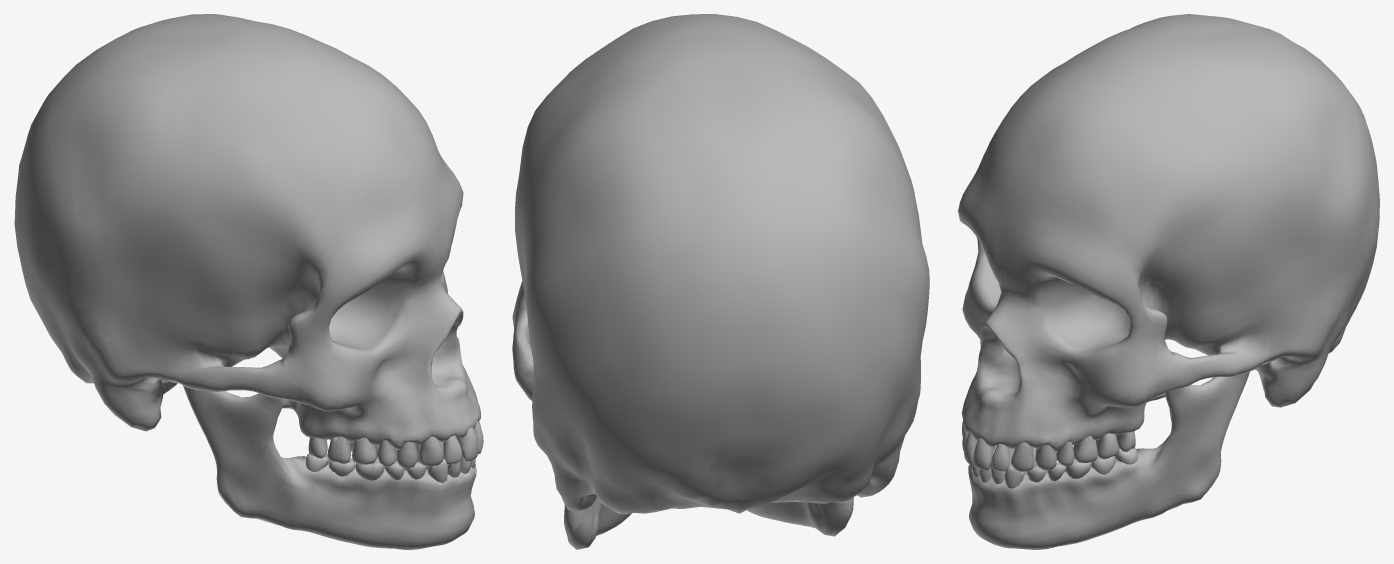
File: skull.glb
3 views of the same model, side by side, from view 1: azimuth 30°, elevation 25°; view 2: azimuth 150°, elevation 25°; view 3: azimuth 270°, elevation 25° (orthographic). The views are drawn at different scales.
Visible parts, largest first — view 1: node_id5; view 2: node_id5; view 3: node_id5.
Boxes of the visible parts, x1=… form: node_id5: x1=14, y1=14, x2=483, y2=549; node_id5: x1=512, y1=14, x2=929, y2=549; node_id5: x1=958, y1=14, x2=1379, y2=549.
Size of the model in its own units: 0.3823 by 0.4634 by 0.3986.
Materials: 1 (1 with a texture image).
